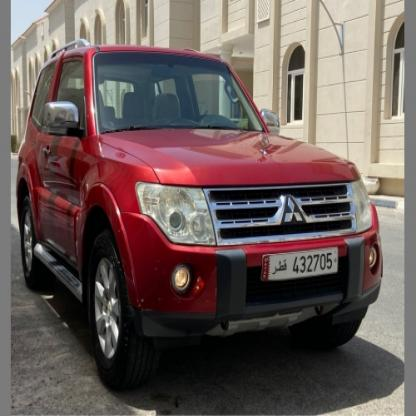np: (263, 248, 340, 282)
